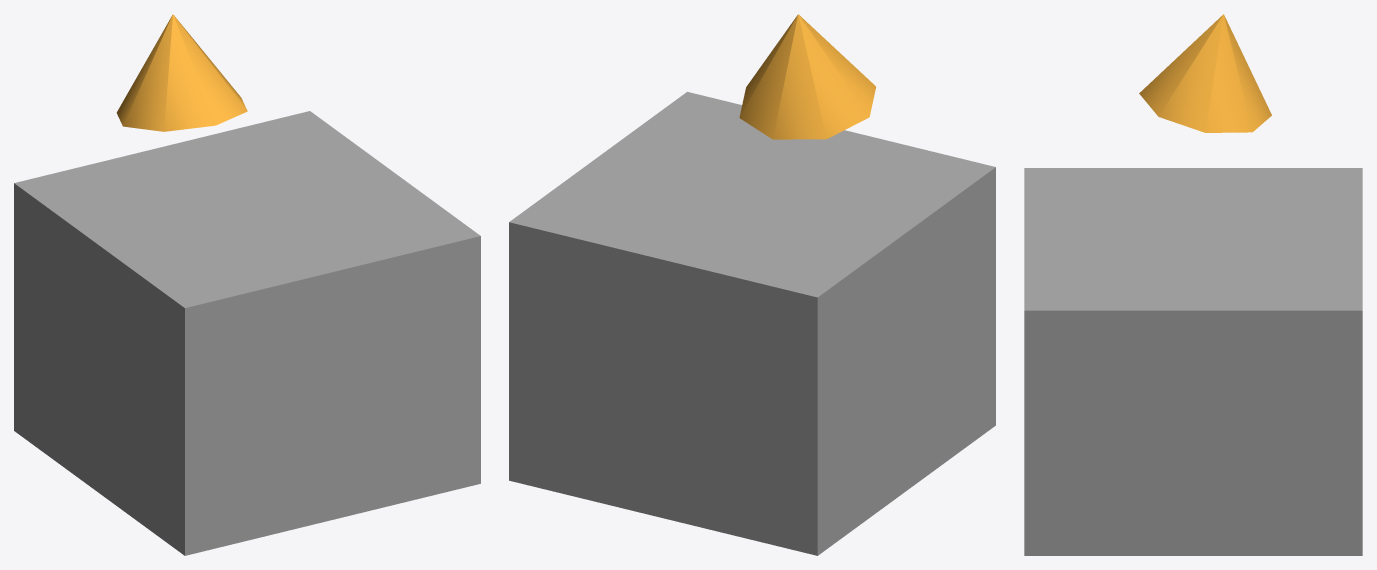
File: legless-rig-placement.glb
3 views of the same model, side by side, from view 1: azimuth 30°, elevation 25°; view 2: azimuth 150°, elevation 25°; view 3: azimuth 270°, elevation 25° (orthographic). The views are drawn at different scales.
Parts seen in each view (by area): view 1: Painted body, Fitted gear; view 2: Painted body, Fitted gear; view 3: Painted body, Fitted gear.
Part boxes in pixels (x1=…): Painted body: x1=14, y1=111, x2=480, y2=555; Fitted gear: x1=116, y1=14, x2=247, y2=131; Painted body: x1=509, y1=91, x2=995, y2=555; Fitted gear: x1=739, y1=14, x2=875, y2=139; Painted body: x1=1024, y1=168, x2=1362, y2=555; Fitted gear: x1=1139, y1=14, x2=1271, y2=132.
Size of the model in its own units: 1 by 1.44 by 1.
